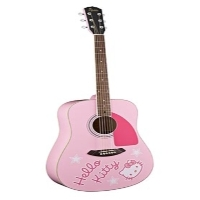guitar: (48, 5, 154, 191)
